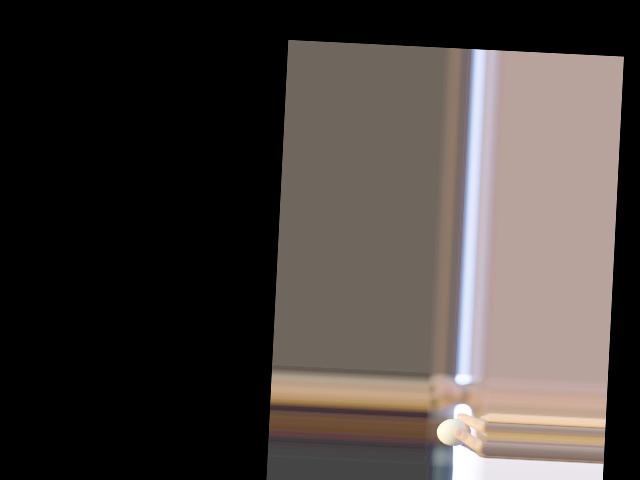egg: (436, 417, 472, 446)
